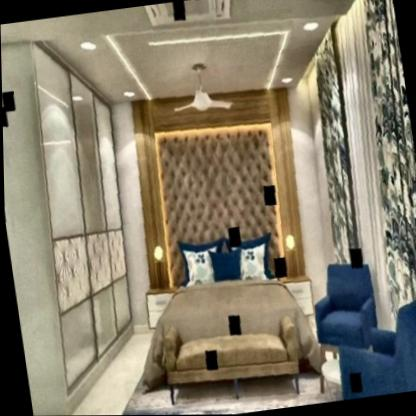Bed: (133, 223, 325, 396)
Closet: (0, 25, 147, 407)
Wall Panel: (119, 79, 309, 298)
